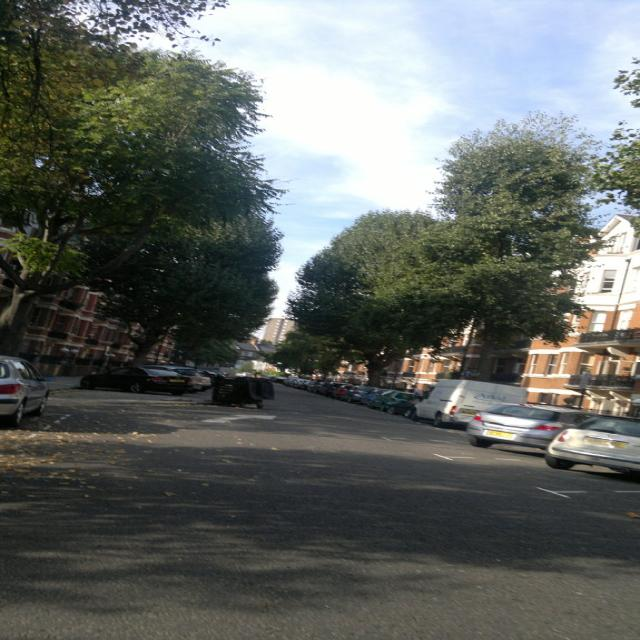car: (76, 363, 226, 396)
